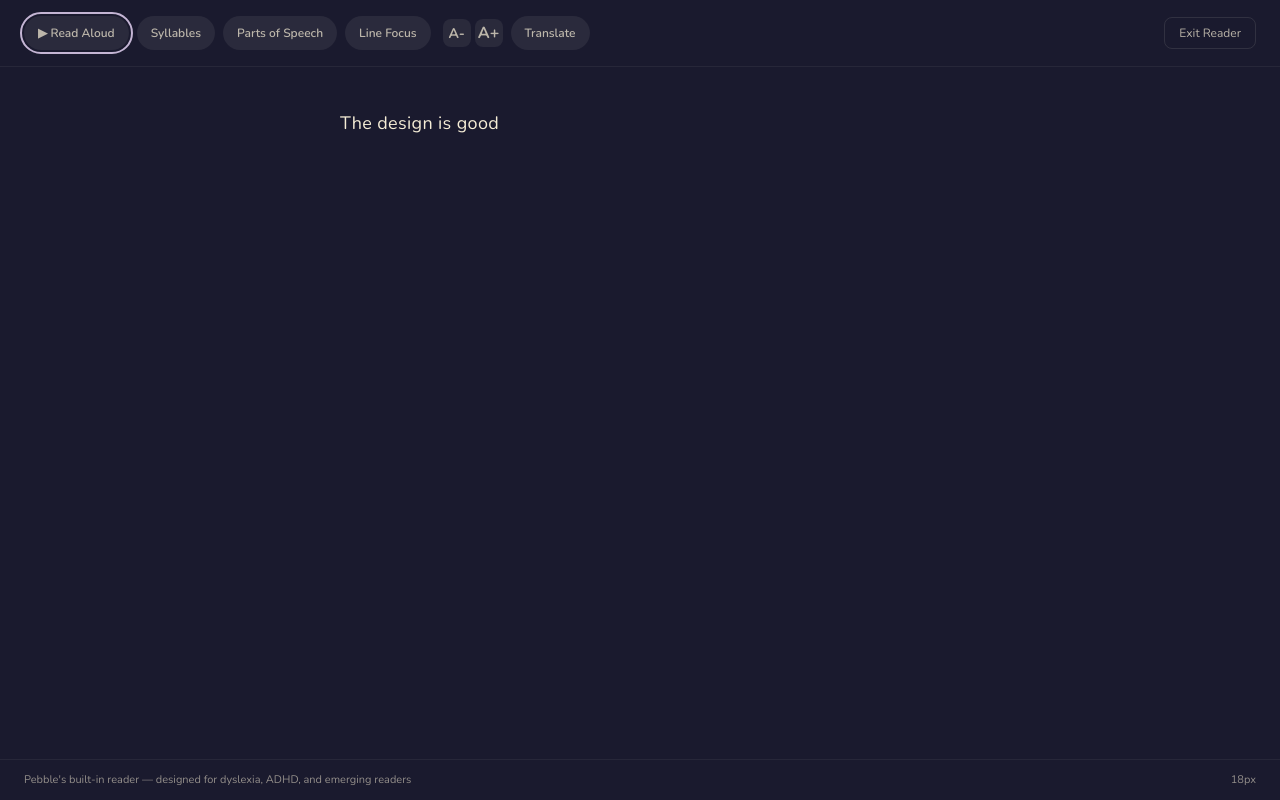
Test: ImmersiveReader › built-in reader › hides flags in calm mode
Click the button "Translate".
click(550, 33)  # box [511, 16, 590, 50]
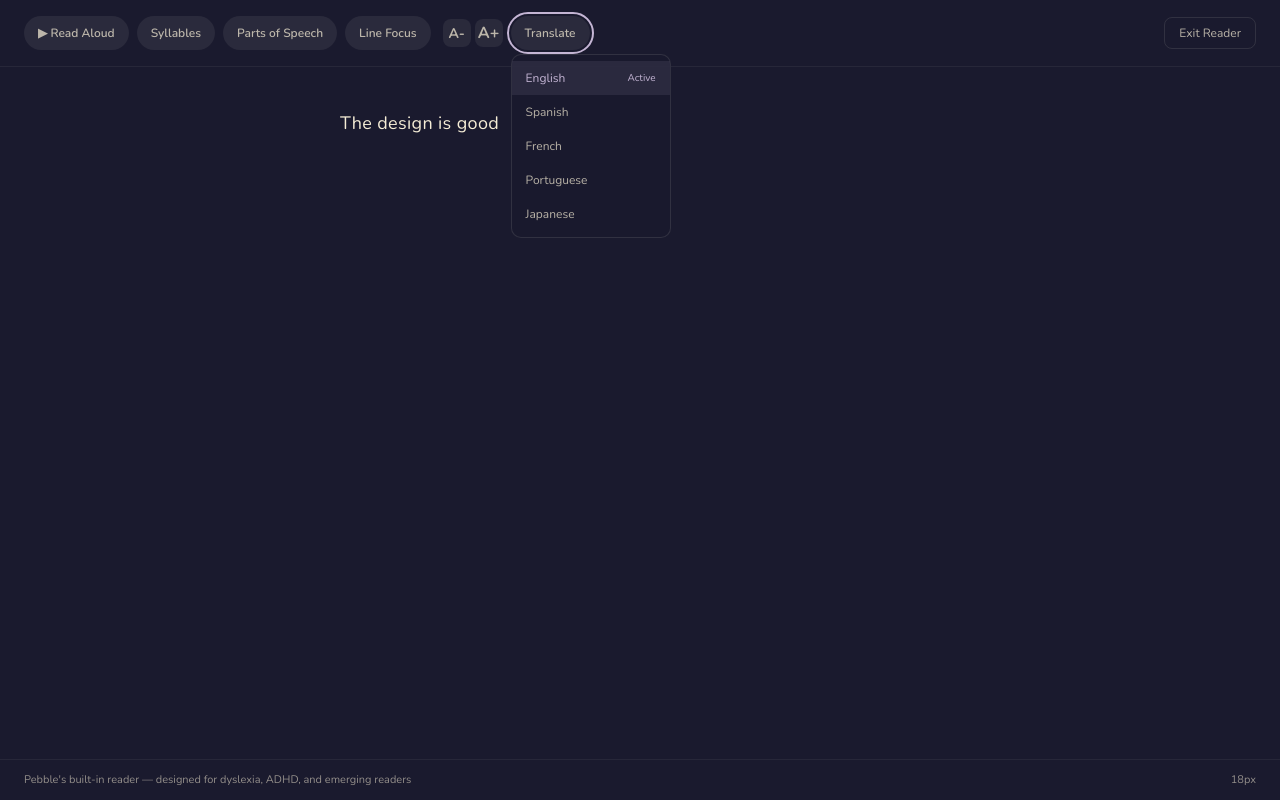
Expected: the button "English Active" is shown, [512, 61, 670, 95]
